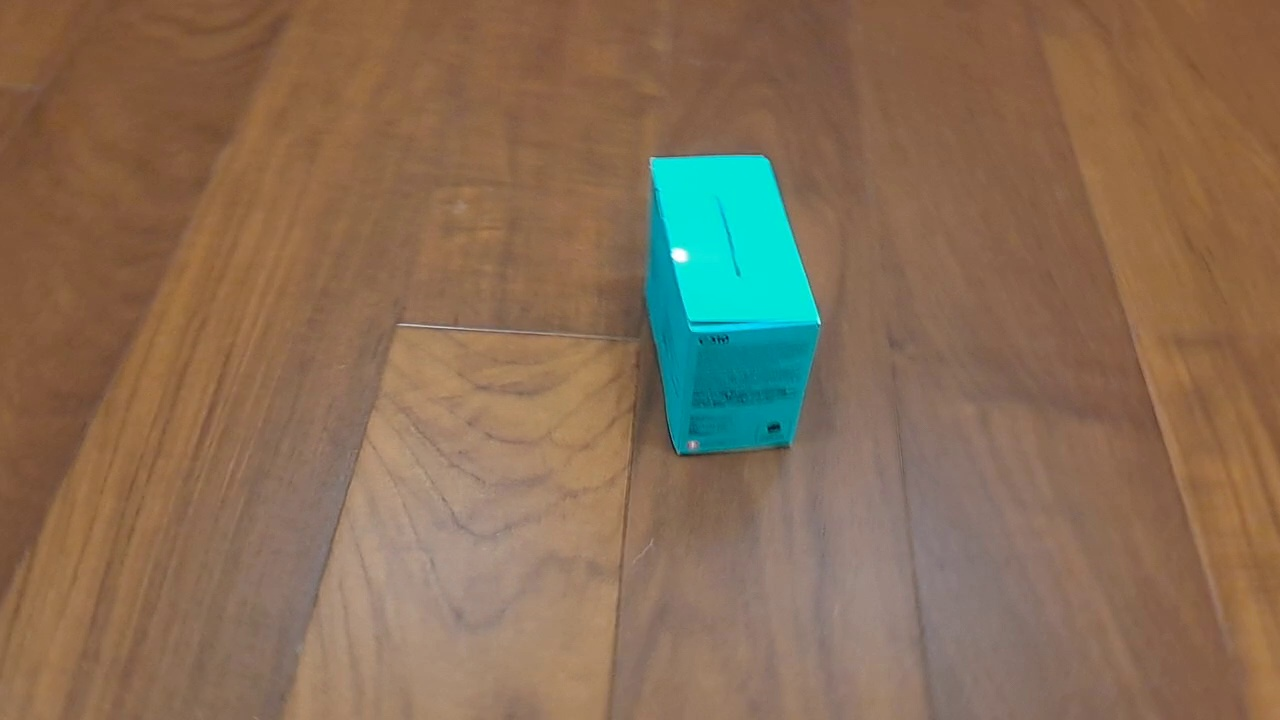webcam: (641, 152, 824, 458)
